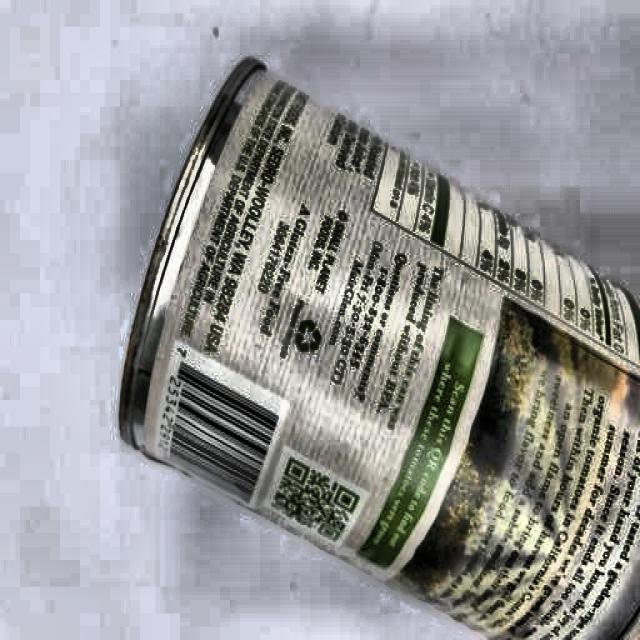metal: (118, 47, 639, 640)
